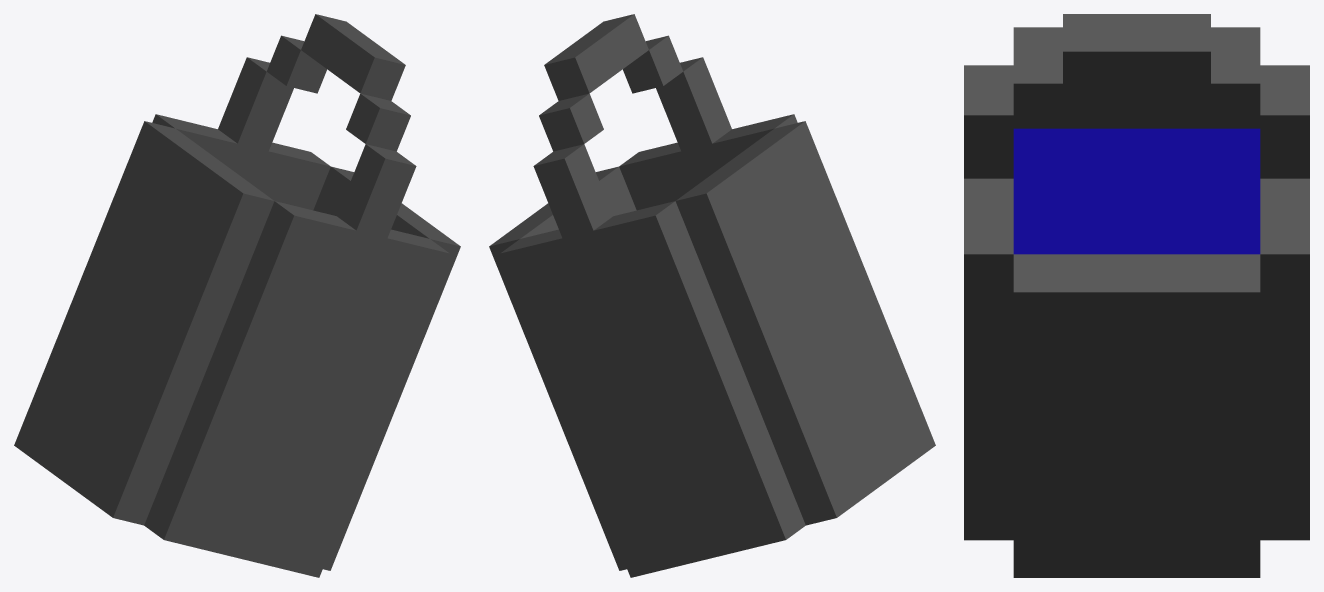
Rendered from 페인트 통.FBX.
3 renders of one model, left to right at view 1: azimuth 30°, elevation 25°; view 2: azimuth 150°, elevation 25°; view 3: azimuth 270°, elevation 25°, orthographic. The views are drawn at different scales.
Parts seen in each view (by area): view 1: Bucket; view 2: Bucket; view 3: Bucket.
Boxes of the visible parts, x1,y1,x2,y2 form: Bucket: [14, 14, 460, 577]; Bucket: [489, 14, 935, 577]; Bucket: [964, 14, 1309, 577].
Size of the model in its own units: 10.15 by 13.47 by 7.
